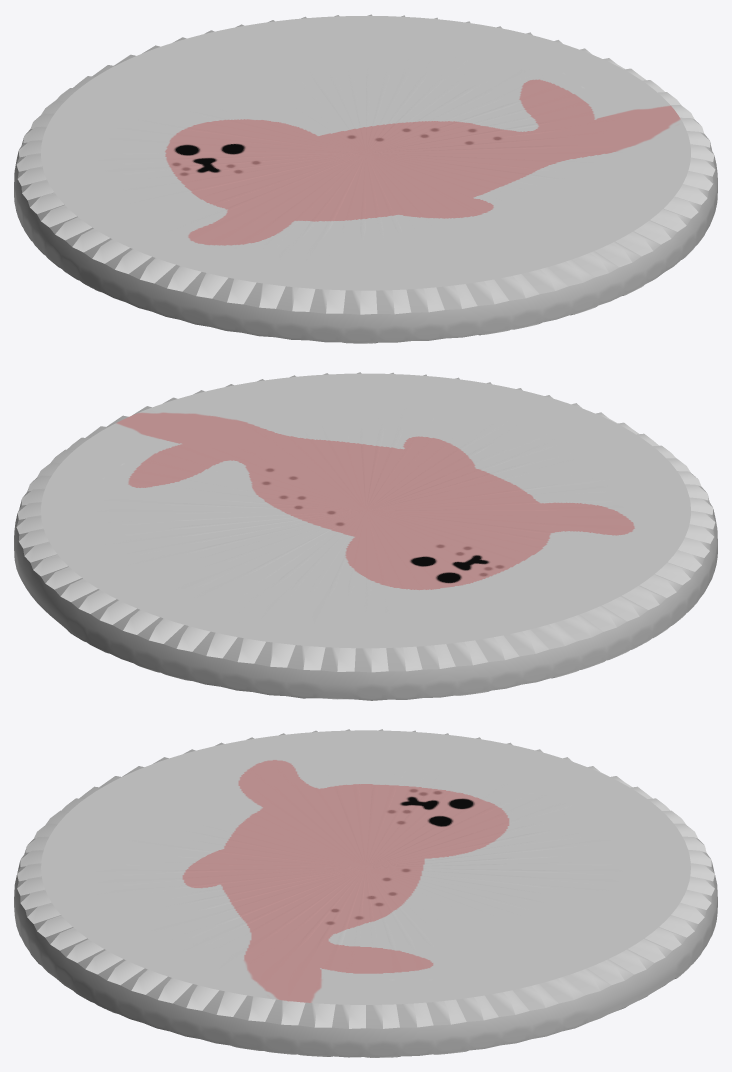
The model's file is seal.obj.
3 views of the same model, one above another, from view 1: azimuth 30°, elevation 25°; view 2: azimuth 150°, elevation 25°; view 3: azimuth 270°, elevation 25° (orthographic).
Visible parts, largest first — view 1: Cylinder; view 2: Cylinder; view 3: Cylinder.
Boxes of the visible parts, <box> form: Cylinder: <box>14,14,717,343</box>; Cylinder: <box>14,372,717,700</box>; Cylinder: <box>14,729,717,1057</box>.
Bounding box in the file's own units: 2 × 0.1305 × 2.
1 material, 1 textured.
